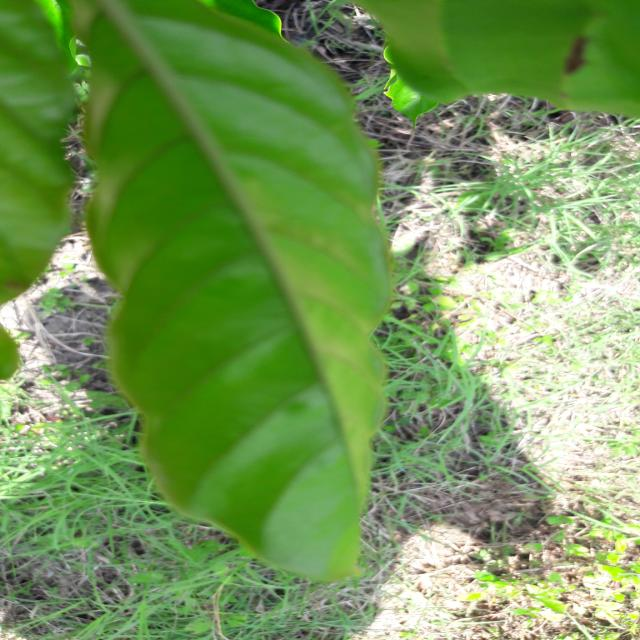Sanas: (55, 0, 392, 584)
